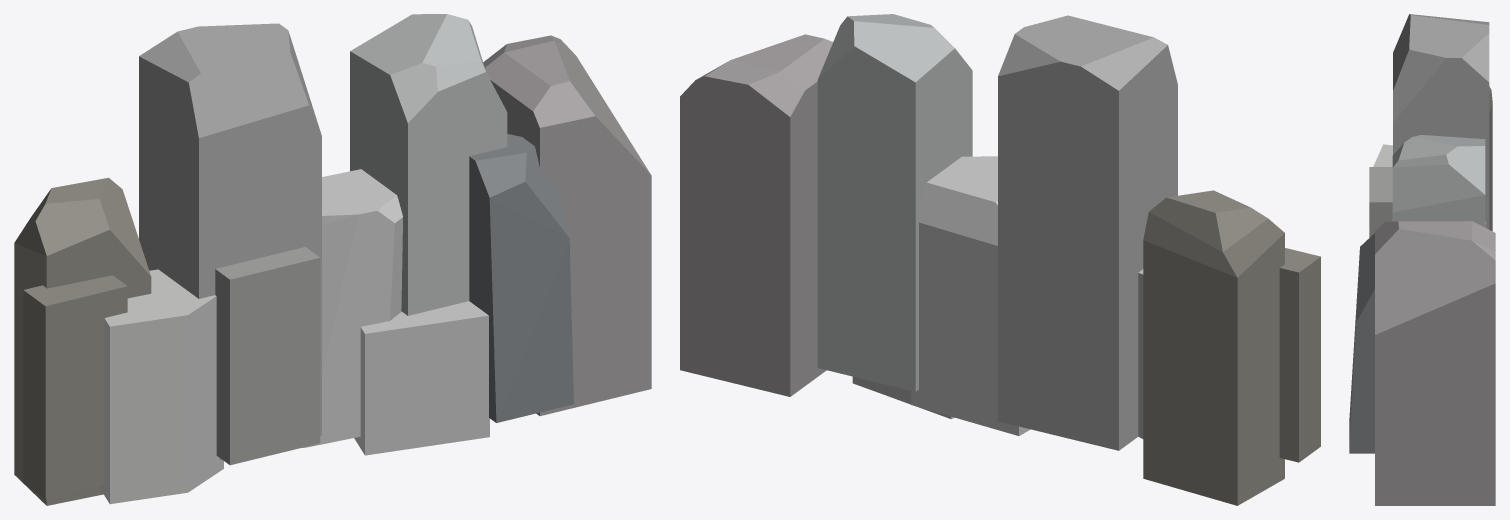
Rendered from Rock_Wall_07.fbx.
The picture shows the model from 3 angles, left to right: view 1: azimuth 30°, elevation 25°; view 2: azimuth 150°, elevation 25°; view 3: azimuth 270°, elevation 25°; orthographic projection. The views are drawn at different scales.
Visible parts, largest first — view 1: Rock_Wall_07; view 2: Rock_Wall_07; view 3: Rock_Wall_07.
Part boxes in pixels (x1,y1,x2,y2): Rock_Wall_07: (14,14,651,505); Rock_Wall_07: (680,14,1320,505); Rock_Wall_07: (1349,14,1495,505).
Bounding box in the file's own units: 12.28 × 8.05 × 3.29.
